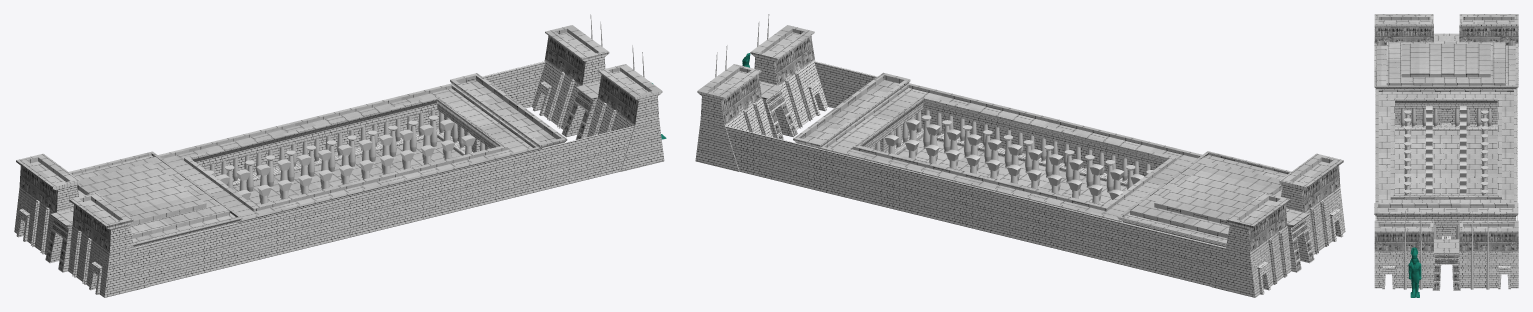
The model's file is 20250711a_Ptah Temple.glb.
3 views of the same model, side by side, from view 1: azimuth 30°, elevation 25°; view 2: azimuth 150°, elevation 25°; view 3: azimuth 270°, elevation 25° (orthographic). The views are drawn at different scales.
Parts seen in each view (by area): view 1: Plane.011; view 2: Plane.011; view 3: Plane.011, Ramses_II.
Part boxes in pixels (bbox=[...]): Plane.011: bbox=[14, 14, 664, 297]; Plane.011: bbox=[695, 14, 1345, 297]; Plane.011: bbox=[1374, 14, 1518, 290]; Ramses_II: bbox=[1408, 247, 1421, 297].
Size of the model in its own units: 227 by 35.26 by 60.16.
8 materials, 5 textured.
